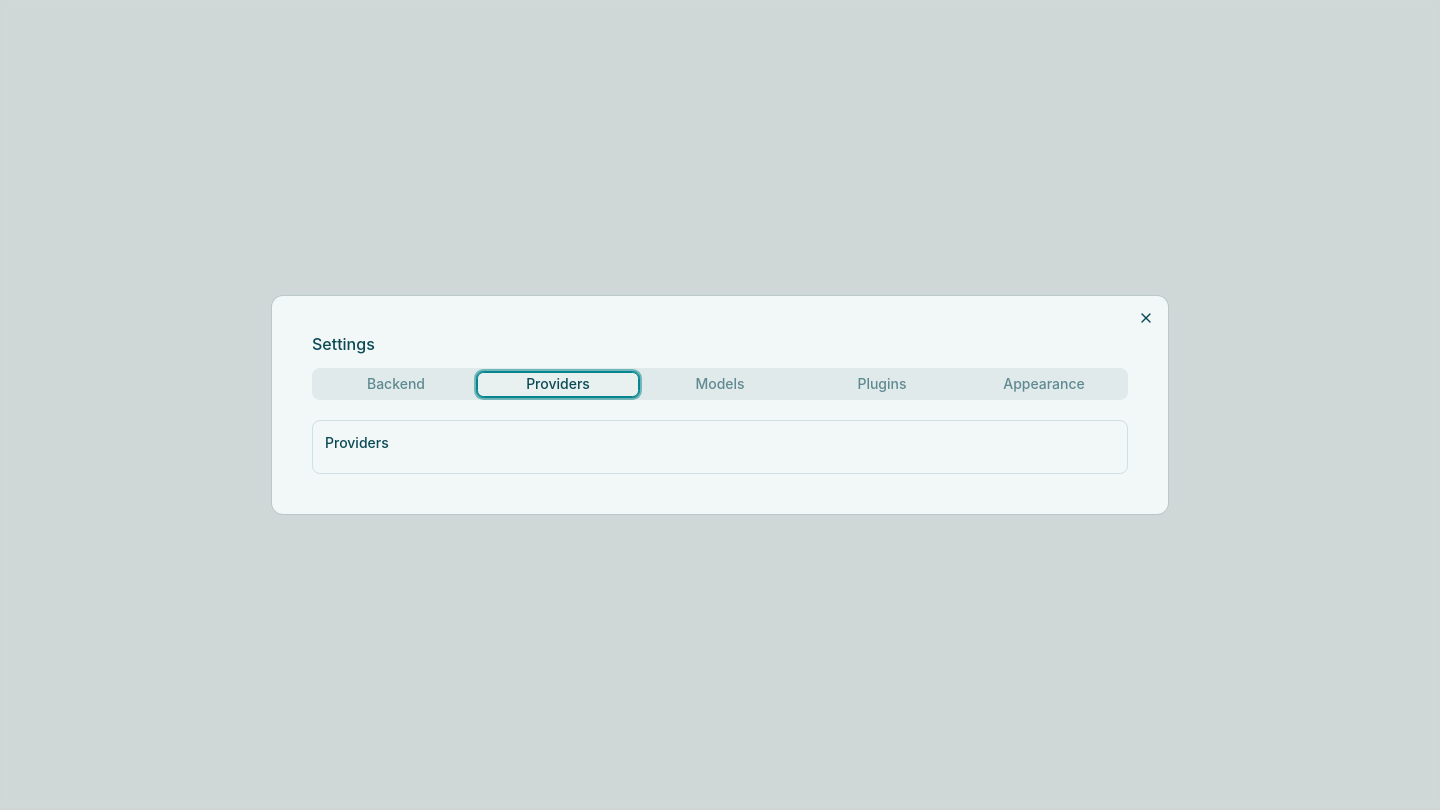
Scenario: SettingsModal › renders the MCP servers section with id, status badge, and tool count for each entry
This screenshot has width=1440, height=810.
Click the tab "Plugins" at (882, 384), box [801,372,963,396]
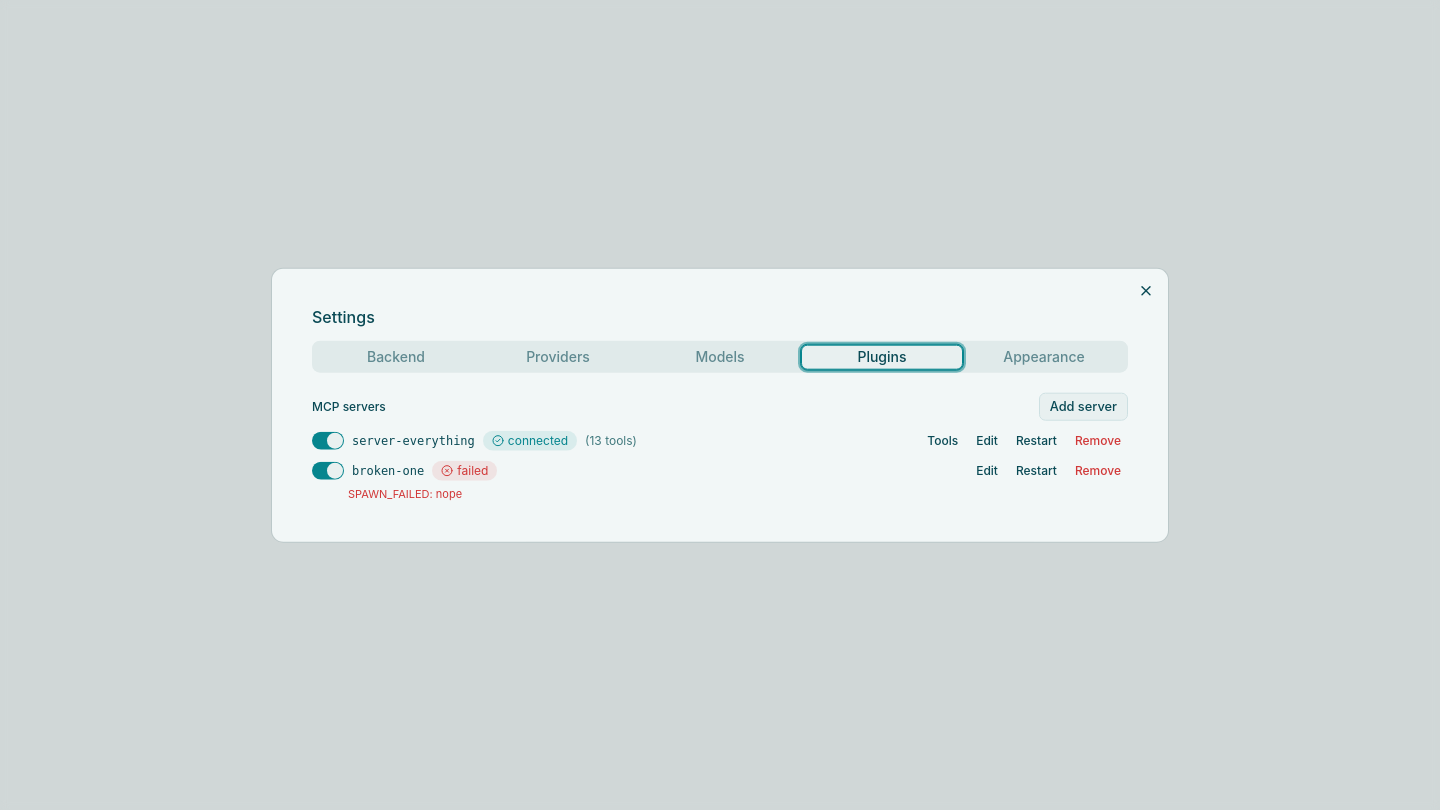
Now the text "server-everything" is shown, box [352,433,475,449]
Now the text "connected" is shown, box [483,431,577,451]
Now the text "(13 tools)" is shown, box [585,433,637,449]
